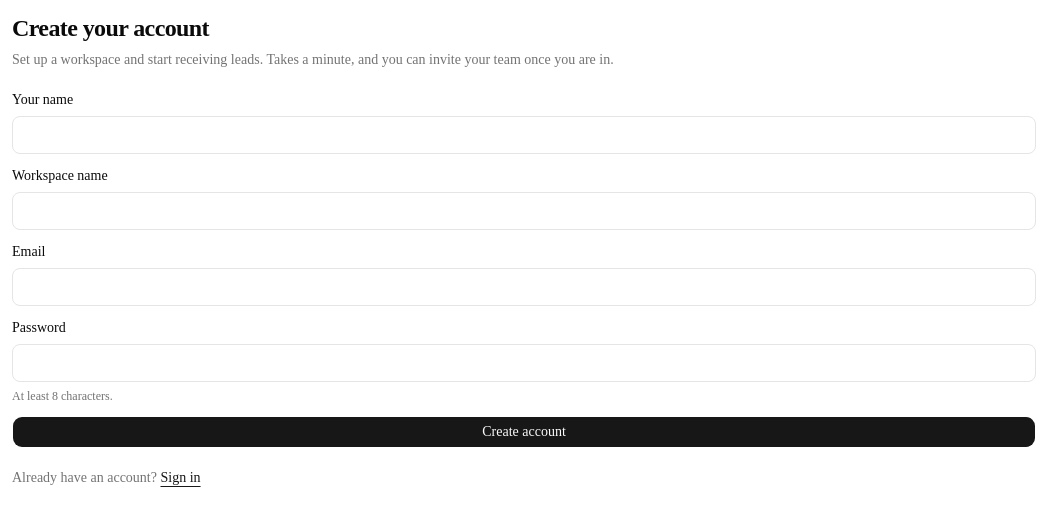
Test: AuthPanel › shows the server's message when the email is already registered
Type "Sam Rivera" into the field labelled "Your name". click: (524, 135)
box: [12,116,1036,154]
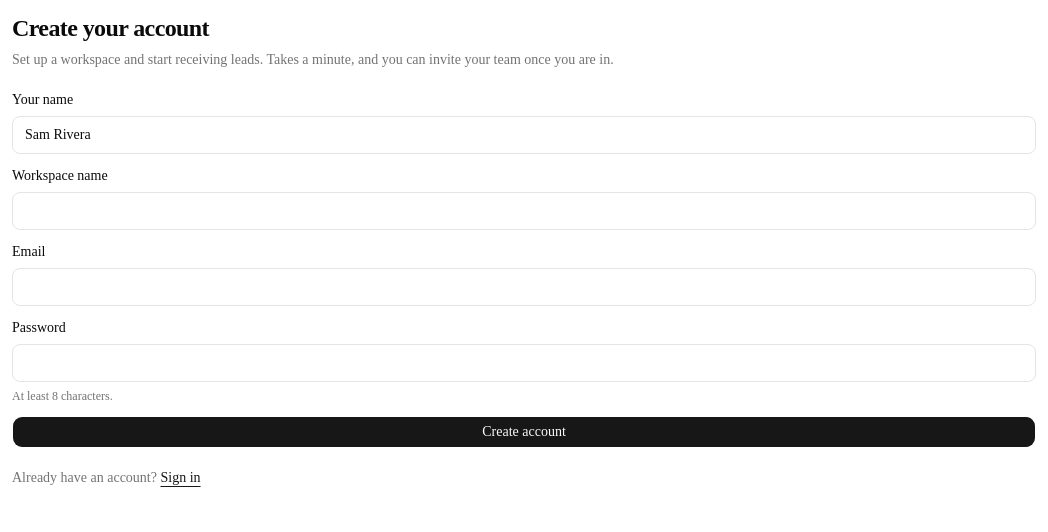
Type "Acme Auto Sales" into the field labelled "Workspace name". click: (524, 211)
box: [12,192,1036,230]
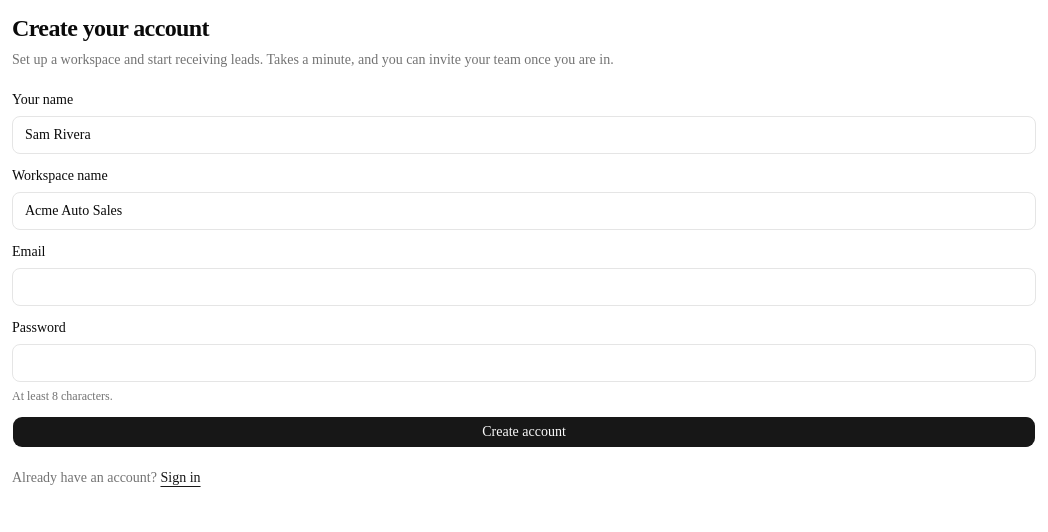
Type "sam@acme.test" into the field labelled "Email". click: (524, 287)
box: [12,268,1036,306]
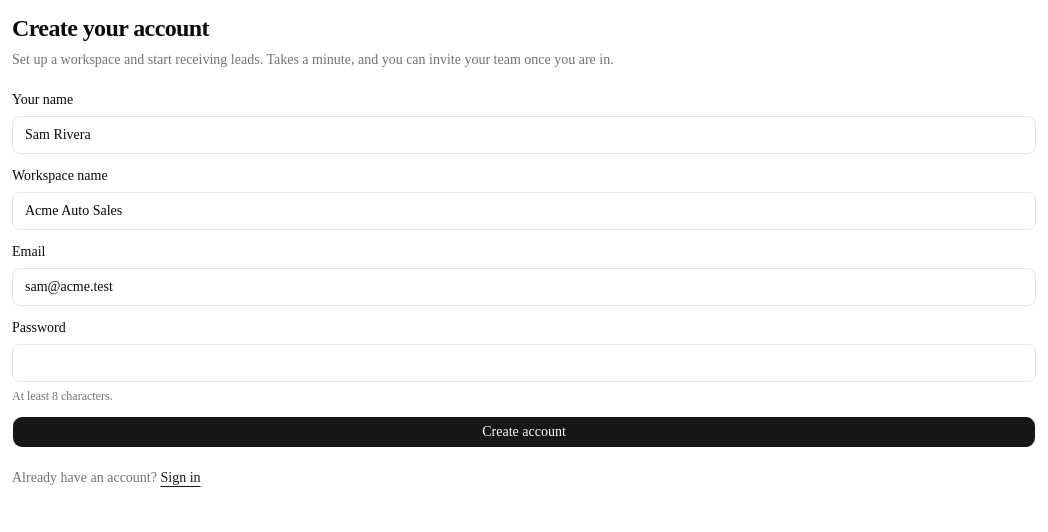
Type "a-long-enough-password" into the password field labelled "Password". click: (524, 363)
box: [12,344,1036,382]
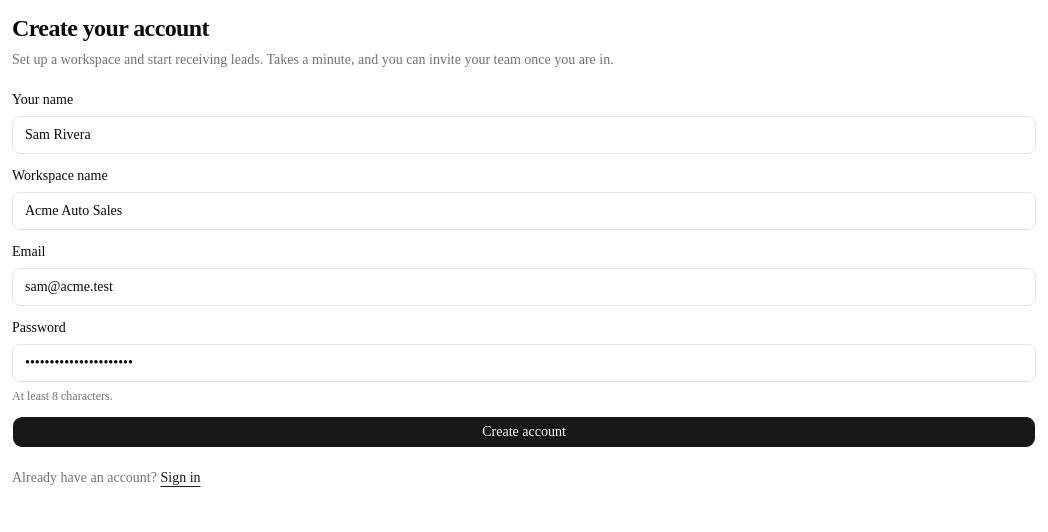
Click the button "Create account". click: (524, 432)
box: [12,416,1036,448]
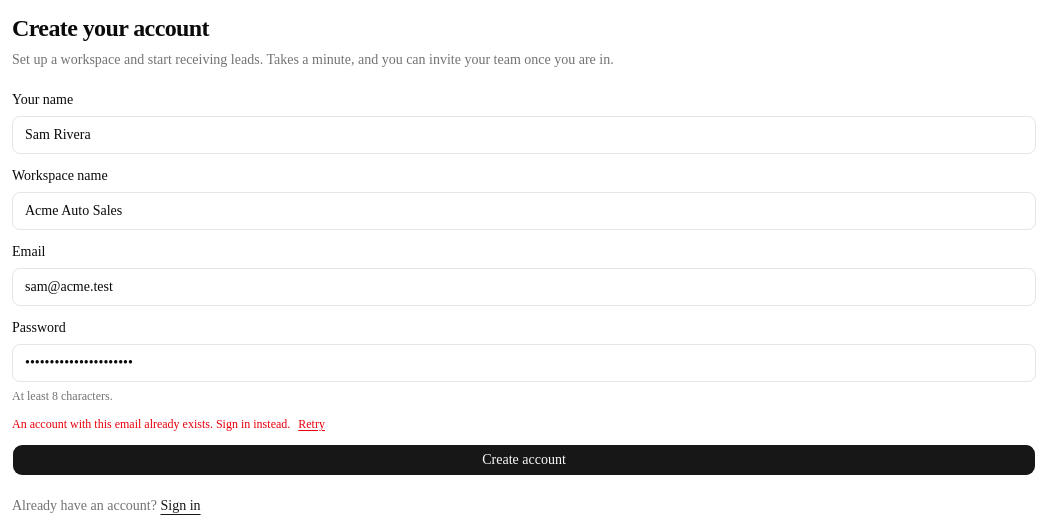
expect the message shows "already exists": met, box [12,417,290,431]
